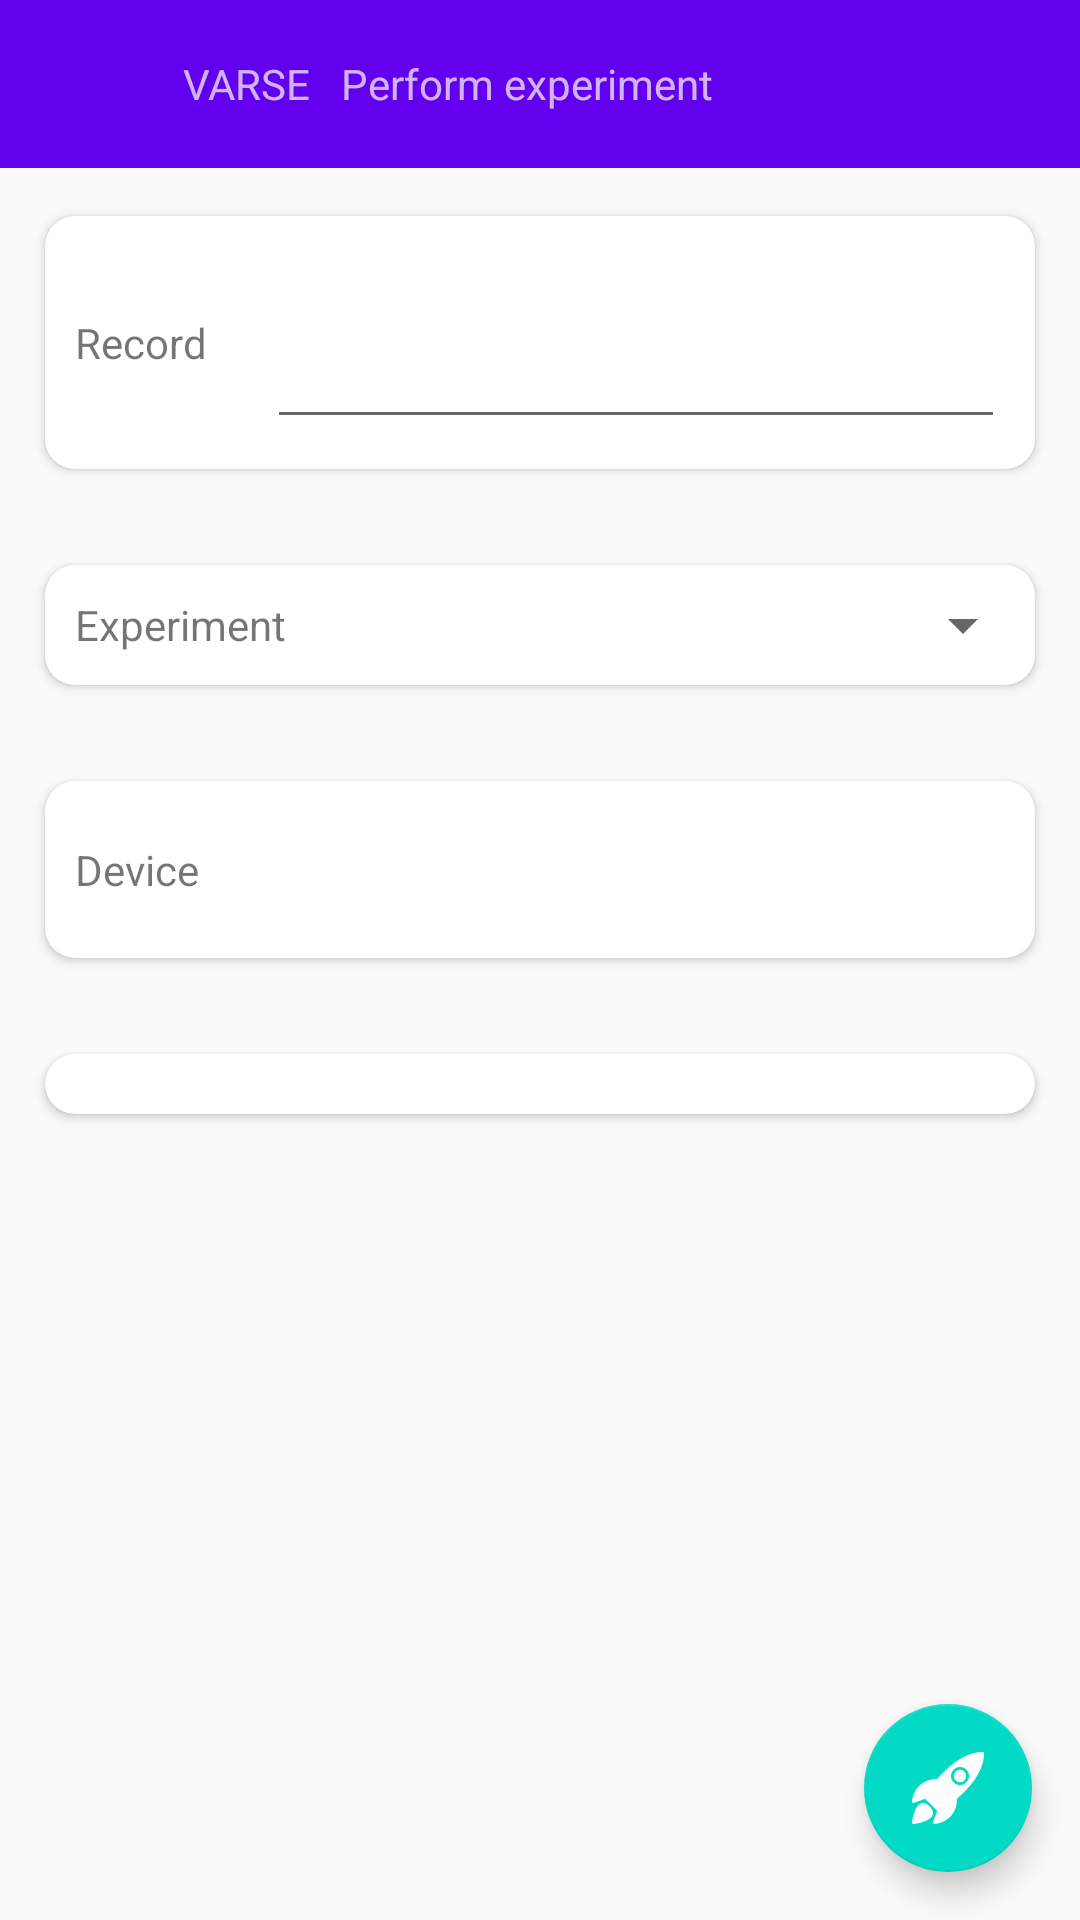

Where icons sit on this 1080px×1920px app screen, as [x1=x1, y1=y1, x2=x2, y2=y2]:
launch: [x1=864, y1=1704, x2=1032, y2=1872]
